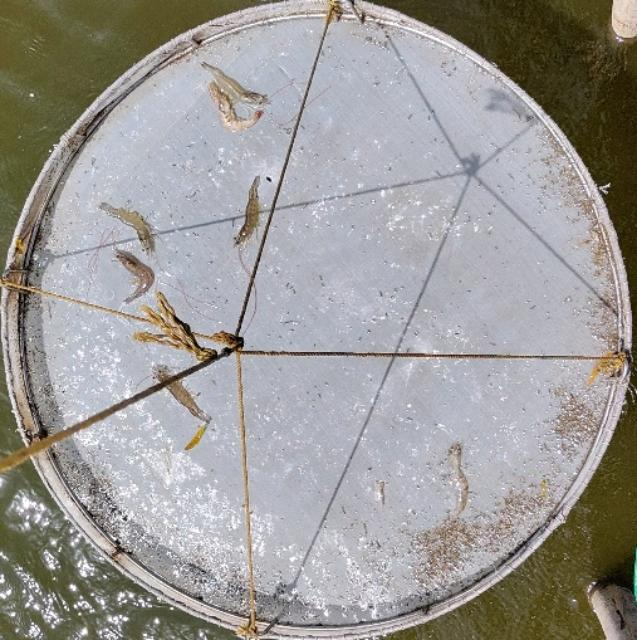shrimp: (155, 288, 219, 363), (151, 363, 212, 423), (199, 60, 273, 105), (207, 79, 265, 132), (98, 202, 153, 255), (142, 305, 195, 354), (113, 251, 153, 305), (233, 174, 261, 248), (447, 443, 468, 517), (133, 332, 185, 349)
